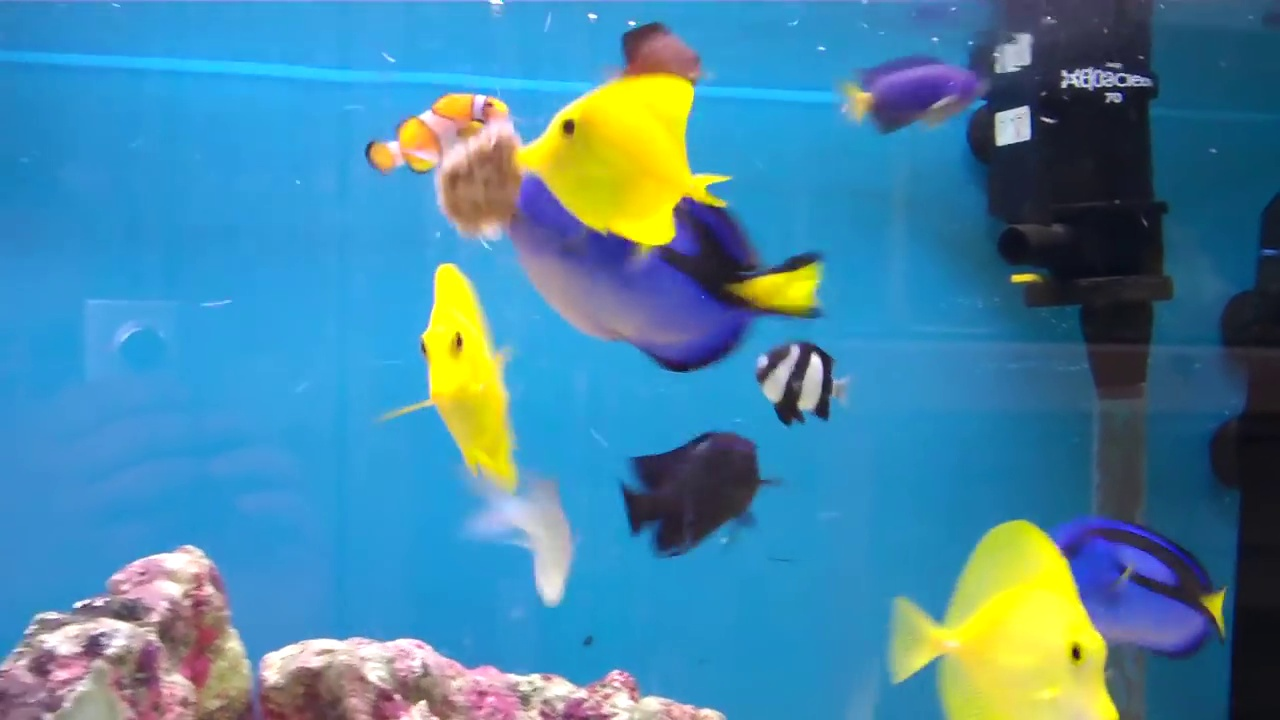blue tang surgeonfish: (517, 164, 824, 398), (1058, 514, 1240, 662)
saddle butterfly fish: (869, 485, 1122, 720), (510, 70, 716, 251), (378, 256, 546, 476)
